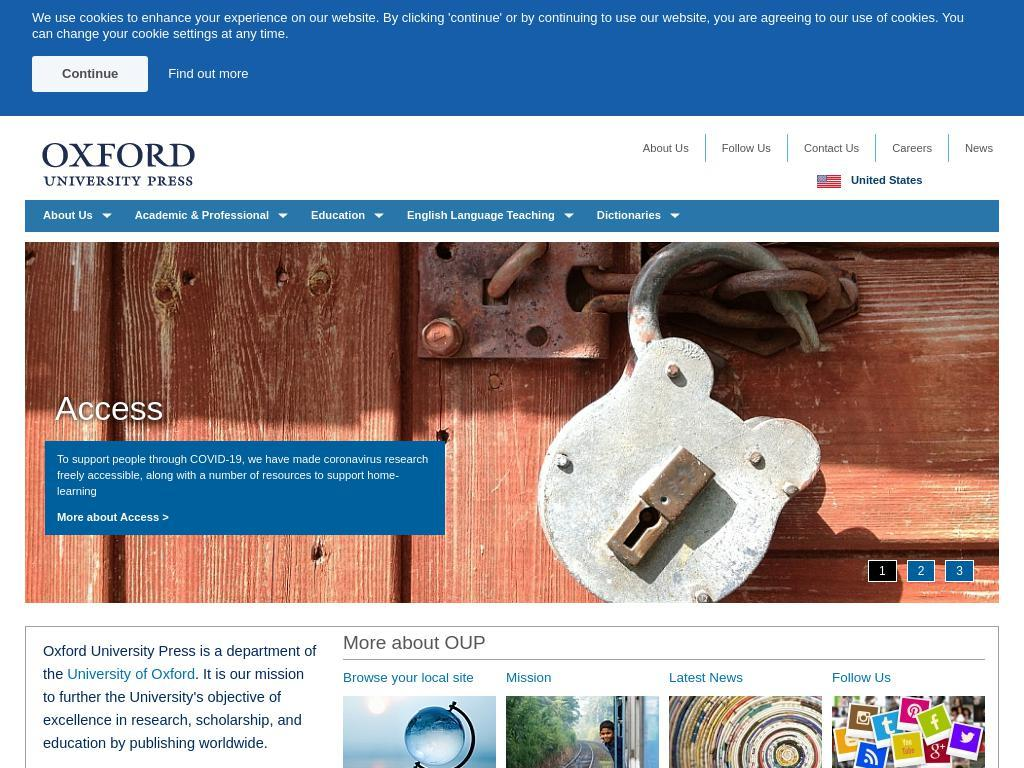button: (25, 242, 999, 604), (45, 440, 445, 535), (999, 242, 1024, 607), (42, 143, 195, 187), (32, 55, 149, 92), (343, 670, 496, 687), (506, 670, 659, 687), (669, 670, 822, 687), (832, 670, 985, 687), (786, 134, 866, 162), (704, 134, 777, 162), (626, 134, 695, 162), (875, 134, 939, 162), (948, 134, 1000, 162), (851, 174, 923, 186), (1019, 442, 1024, 521)
heading: (55, 386, 164, 430)
image: (25, 242, 999, 604), (343, 696, 496, 768), (506, 696, 659, 768), (669, 696, 822, 768), (832, 696, 985, 768), (999, 242, 1024, 607), (42, 143, 195, 187), (817, 175, 841, 188)
link: (67, 666, 196, 683), (168, 65, 250, 81)
text: (32, 10, 983, 42), (45, 440, 445, 499), (43, 666, 304, 752), (343, 627, 985, 661), (43, 643, 316, 683), (45, 498, 445, 525), (397, 200, 585, 230), (124, 200, 300, 230), (586, 200, 691, 230), (301, 200, 396, 230), (33, 200, 123, 230), (851, 174, 923, 186), (867, 560, 897, 583), (906, 560, 936, 583), (945, 560, 974, 583), (1019, 442, 1024, 485), (1019, 484, 1024, 511)
